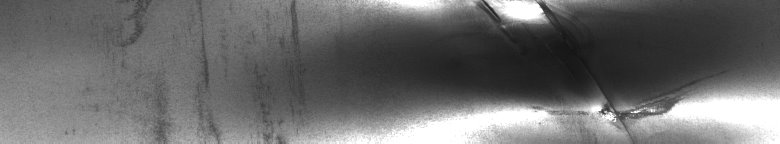ke: (468, 4, 684, 128)
